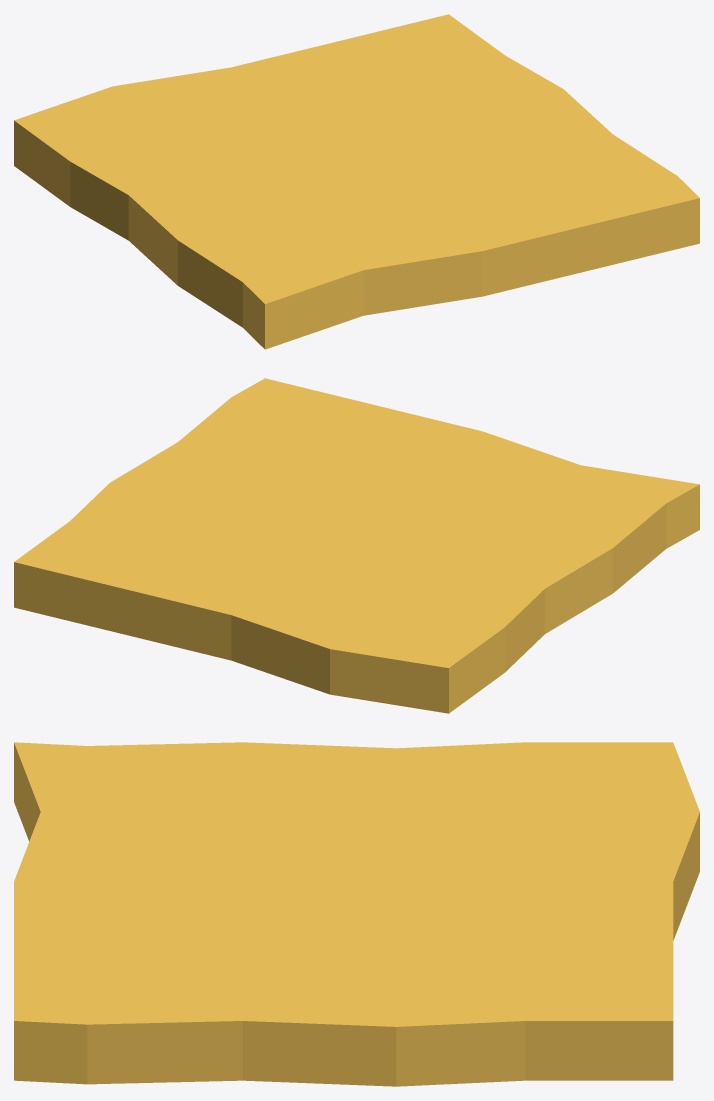
File: Island_top.gltf
The picture shows the model from 3 angles, top to bottom: view 1: azimuth 30°, elevation 25°; view 2: azimuth 150°, elevation 25°; view 3: azimuth 270°, elevation 25°; orthographic projection. The views are drawn at different scales.
Visible parts, largest first — view 1: Cube; view 2: Cube; view 3: Cube.
Part boxes in pixels (<box>): Cube: <box>14,14,699,349</box>; Cube: <box>14,378,699,713</box>; Cube: <box>14,742,699,1086</box>.
Size of the model in its own units: 2.18 by 0.2139 by 2.23.
